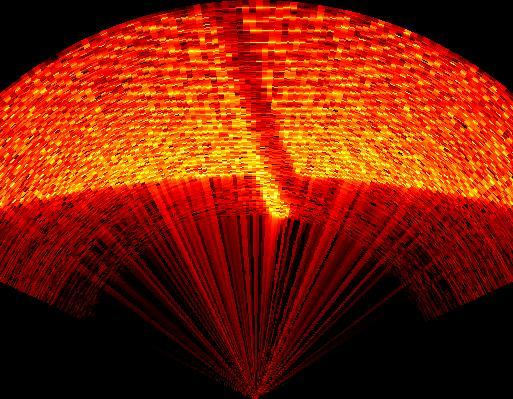pipe: (208, 1, 301, 212)
